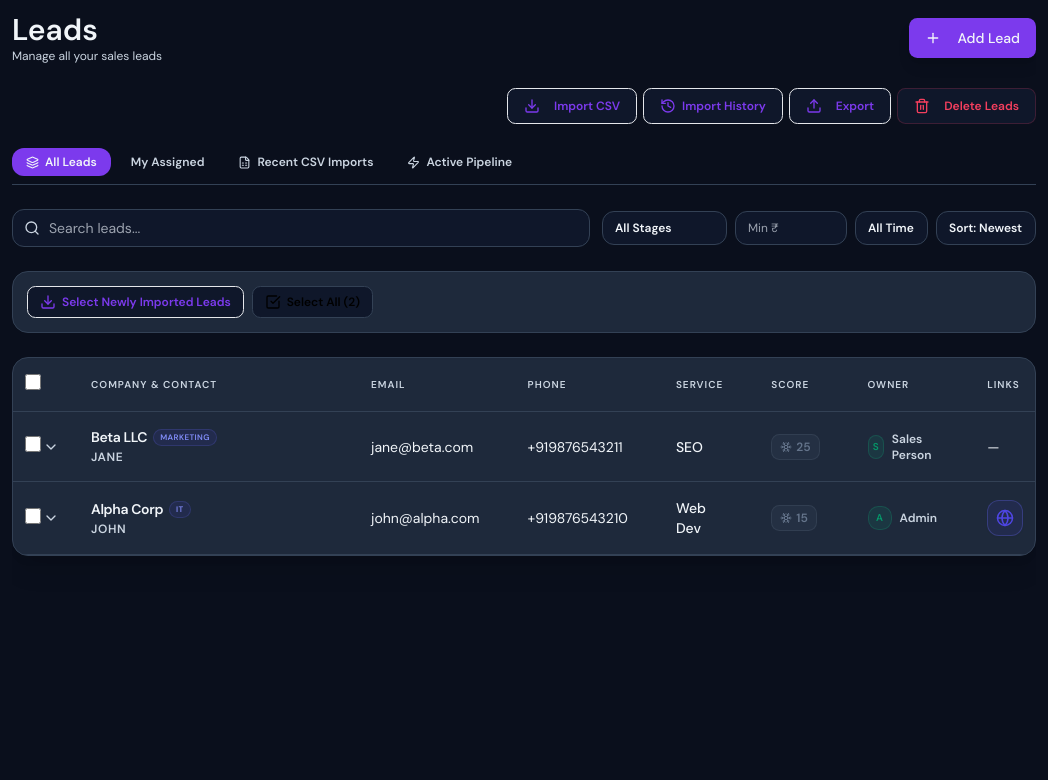
CRMLeads › filters leads by search query
Type "Alpha" into the field with placeholder "Search leads...".
click(301, 228); type("Alpha")  # box [12, 209, 590, 247]
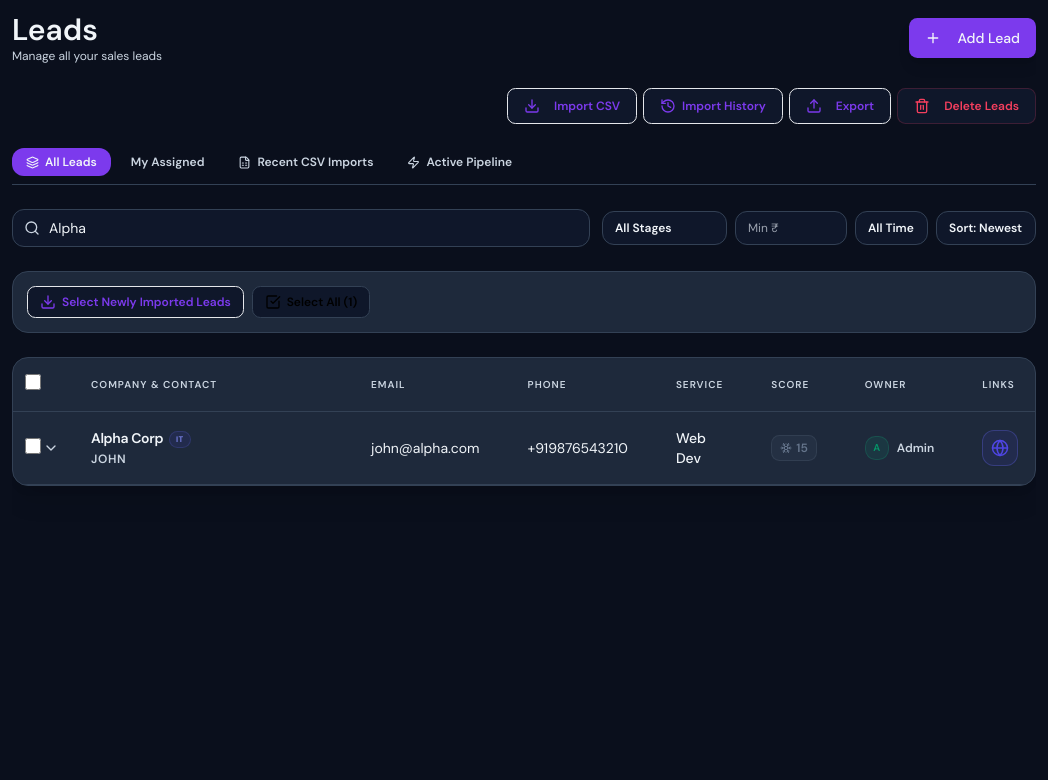
Expected: the text "Alpha Corp" is shown, [91, 429, 163, 447]
Expected: the text "Beta LLC" is gone
